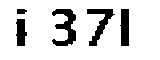3: (47, 3, 77, 52)
7: (81, 6, 114, 52)
i: (11, 4, 33, 52)
l: (117, 5, 144, 54)
